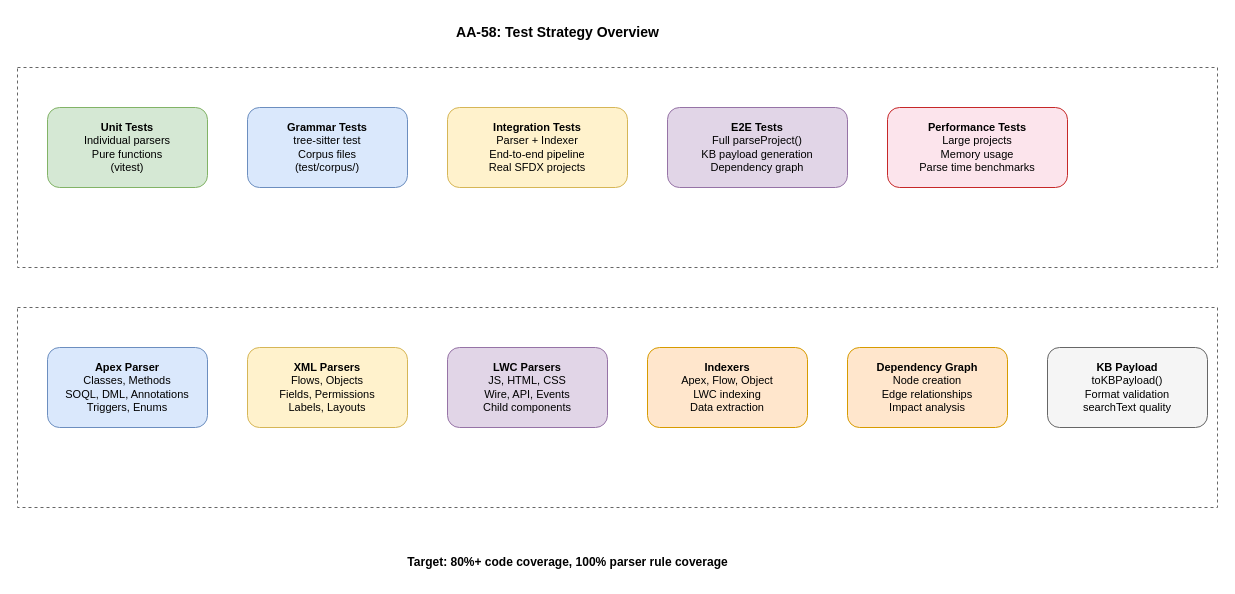
This 1235x594 diagram has some shape labels left out. Each missing label, with the box of its shape:
Coverage Matrix: (16, 306, 1218, 508)
Test Levels: (16, 66, 1218, 268)
